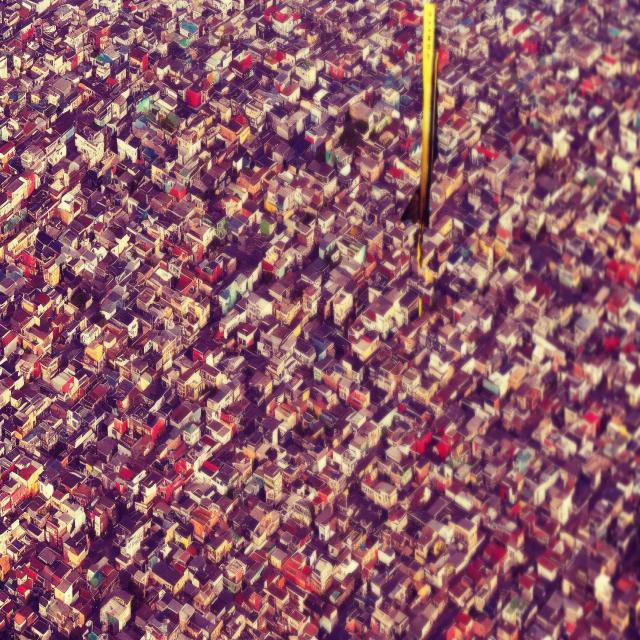airplane: (400, 4, 436, 267)
